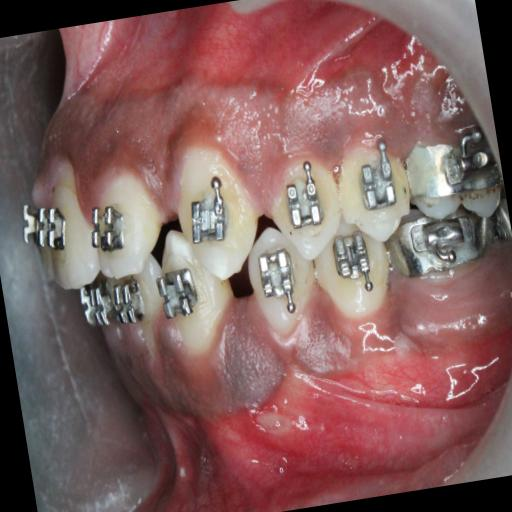correct_brace: (266, 151, 348, 259), (240, 224, 318, 332), (182, 172, 236, 252), (154, 257, 206, 334), (84, 188, 134, 264), (254, 243, 304, 314)
incorrect_brace: (82, 169, 168, 283), (278, 159, 329, 233)
